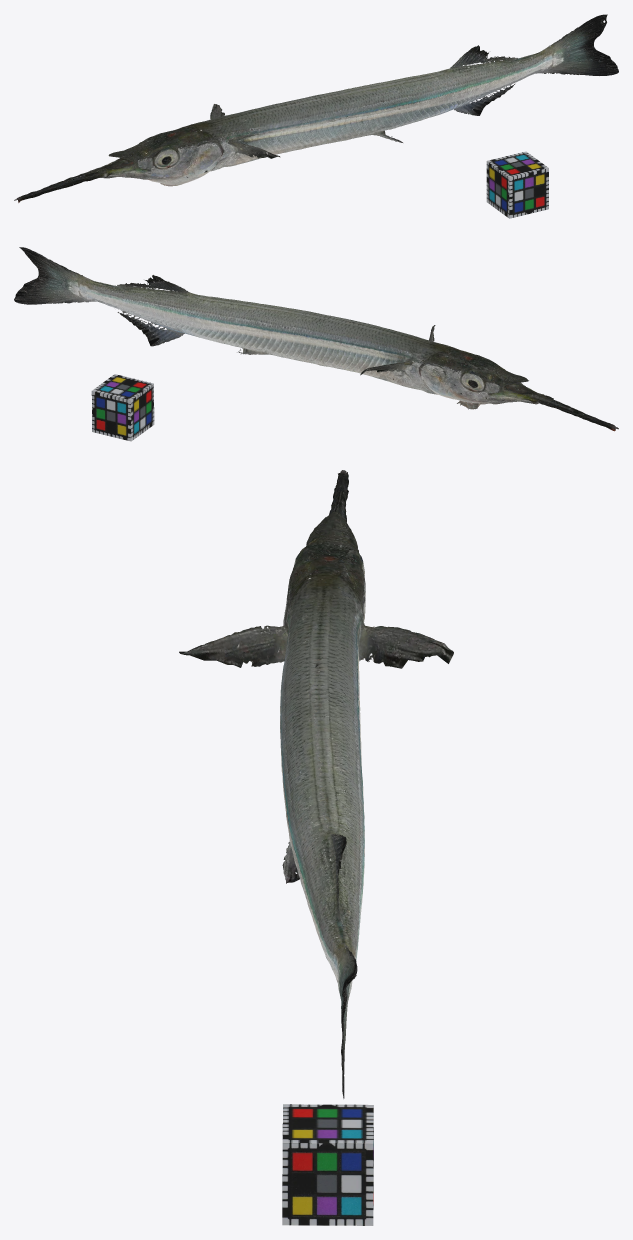
The model's file is scan_halfbeak.glb.
The picture shows the model from 3 angles, top to bottom: view 1: azimuth 30°, elevation 25°; view 2: azimuth 150°, elevation 25°; view 3: azimuth 270°, elevation 25°; orthographic projection. The views are drawn at different scales.
Visible parts, largest first — view 1: Object_7, Object_4, Object_6; view 2: Object_7, Object_4, Object_6; view 3: Object_7, Object_4.
Boxes of the visible parts, x1,y1,x2,y2 form: Object_7: [14, 27, 591, 202]; Object_4: [486, 151, 548, 218]; Object_6: [452, 14, 618, 113]; Object_7: [43, 259, 618, 431]; Object_4: [91, 374, 154, 441]; Object_6: [14, 247, 186, 345]; Object_7: [179, 470, 453, 1040]; Object_4: [282, 1104, 373, 1225].
Size of the model in its own units: 9.12 by 2.39 by 1.8.
Materials: 3 (3 with a texture image).
